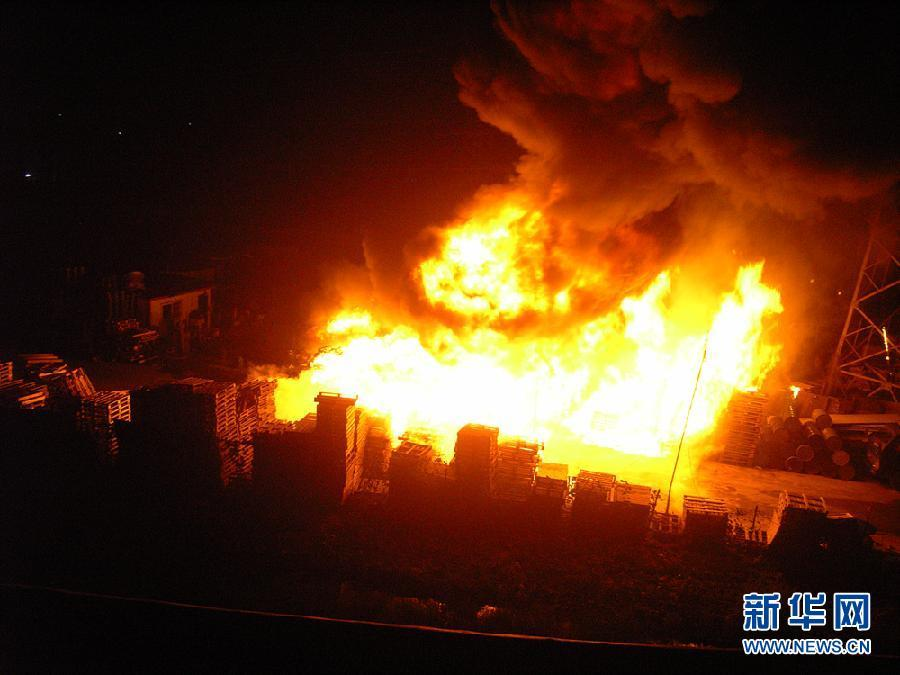fire: (289, 176, 780, 500)
